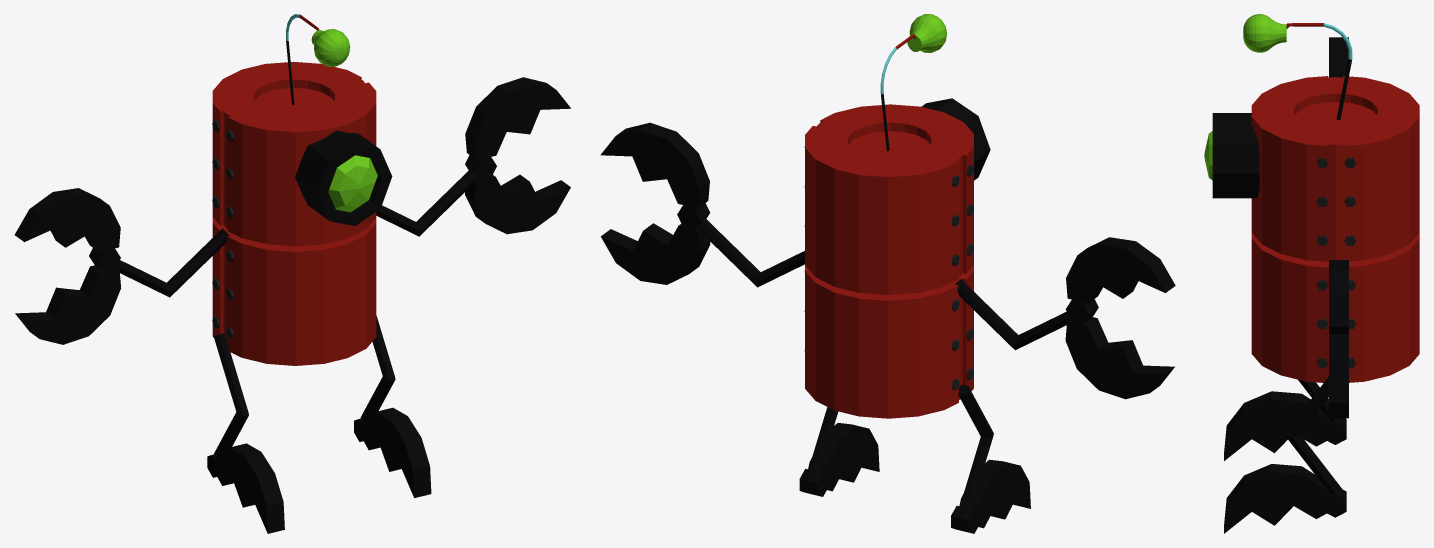
File: RoborKanClaws.fbx
3 views of the same model, side by side, from view 1: azimuth 30°, elevation 25°; view 2: azimuth 150°, elevation 25°; view 3: azimuth 270°, elevation 25° (orthographic). The views are drawn at different scales.
Visible parts, largest first — view 1: Object001; view 2: Object001; view 3: Object001.
Boxes of the visible parts, x1,y1,x2,y2 form: Object001: [14, 14, 570, 533]; Object001: [600, 14, 1175, 533]; Object001: [1204, 14, 1419, 533].
Size of the model in its own units: 60.22 by 49.51 by 20.21.
